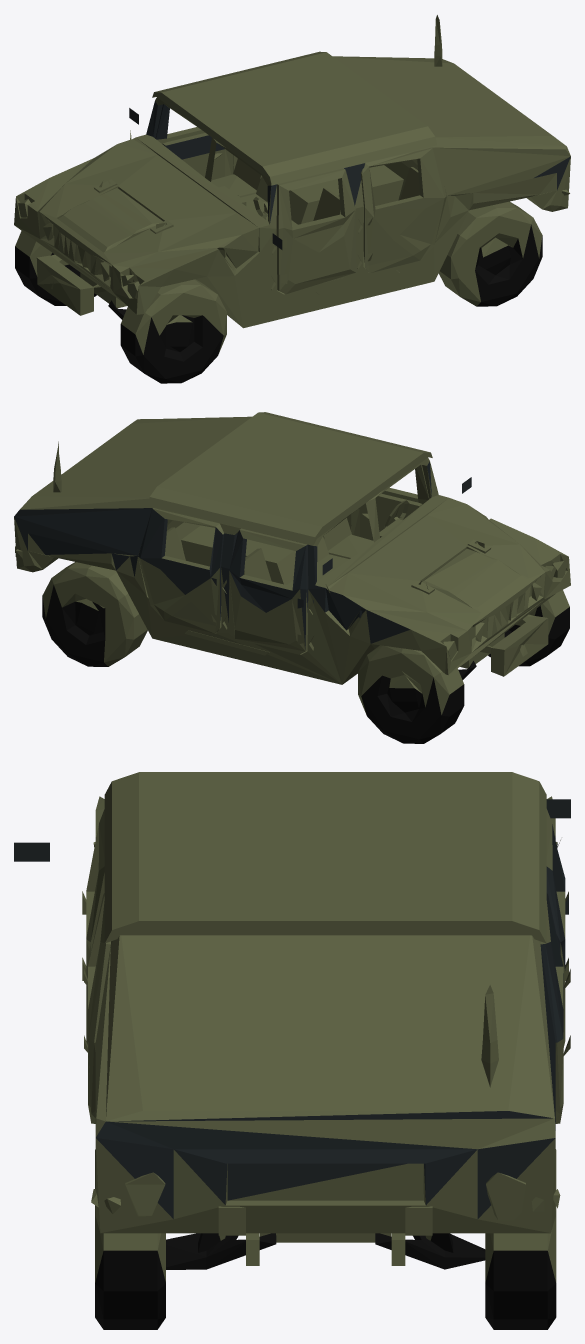
Rendered from humvee.paint-v1.lod0.glb.
3 views of the same model, one above another, from view 1: azimuth 30°, elevation 25°; view 2: azimuth 150°, elevation 25°; view 3: azimuth 270°, elevation 25° (orthographic). The views are drawn at different scales.
Parts seen in each view (by area): view 1: humvee.001_Material_0; view 2: humvee.001_Material_0; view 3: humvee.001_Material_0.
Part boxes in pixels (x1=…): humvee.001_Material_0: x1=14, y1=15, x2=570, y2=383; humvee.001_Material_0: x1=14, y1=412, x2=570, y2=743; humvee.001_Material_0: x1=14, y1=772, x2=570, y2=1329.
Size of the model in its own units: 4.9 by 2.09 by 2.8.
